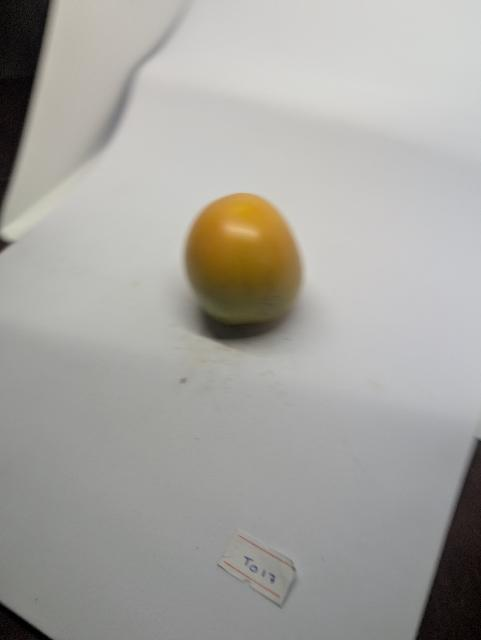turning: (165, 184, 319, 340)
